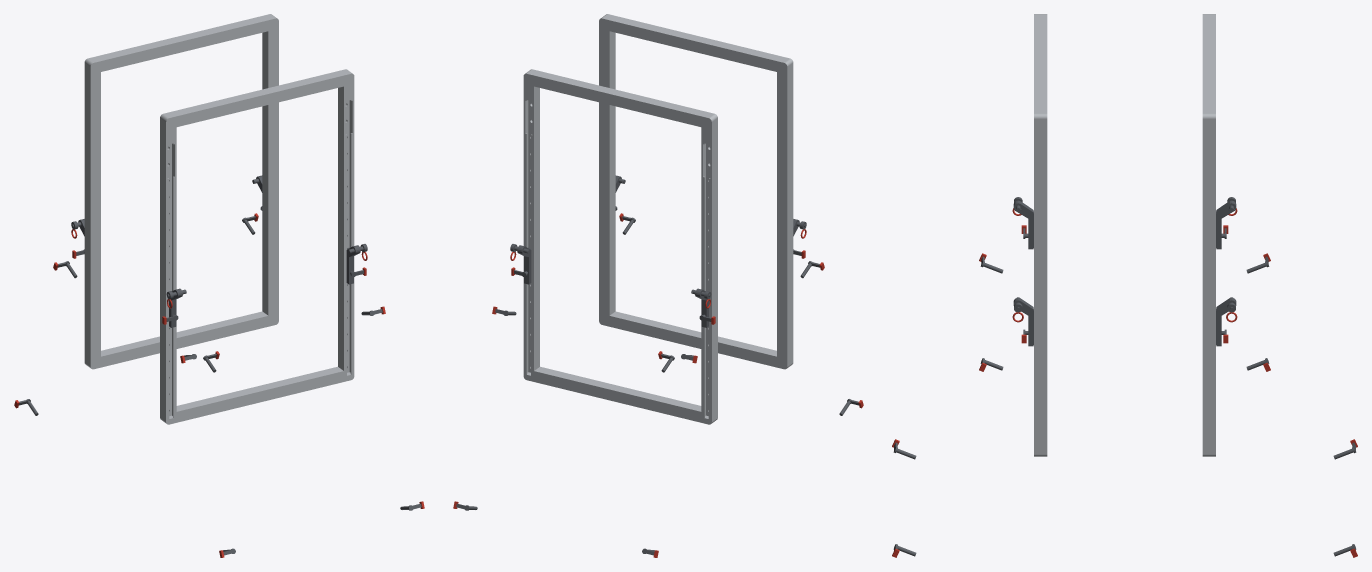
File: b_shelf.glb
The picture shows the model from 3 angles, left to right: view 1: azimuth 30°, elevation 25°; view 2: azimuth 150°, elevation 25°; view 3: azimuth 270°, elevation 25°; orthographic projection. The views are drawn at different scales.
Parts seen in each view (by area): view 1: ring_back, ring_front; view 2: ring_front, ring_back; view 3: ring_front, ring_back.
Part boxes in pixels (x1,y1,x2,y2): ring_back: (84, 14, 278, 369); ring_front: (160, 69, 354, 424); ring_front: (599, 14, 793, 369); ring_back: (523, 69, 717, 424); ring_front: (1034, 14, 1047, 456); ring_back: (1202, 14, 1215, 456).
Size of the model in its own units: 0.387 by 0.7252 by 0.6898.
